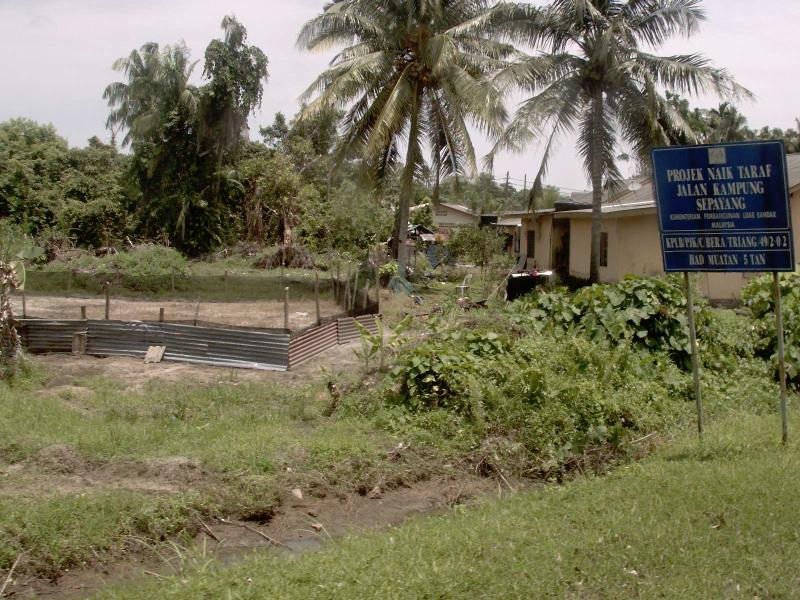ads_sign: (643, 129, 800, 287)
